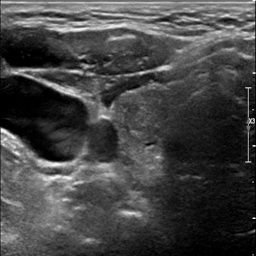mass: (126, 91, 168, 143)
